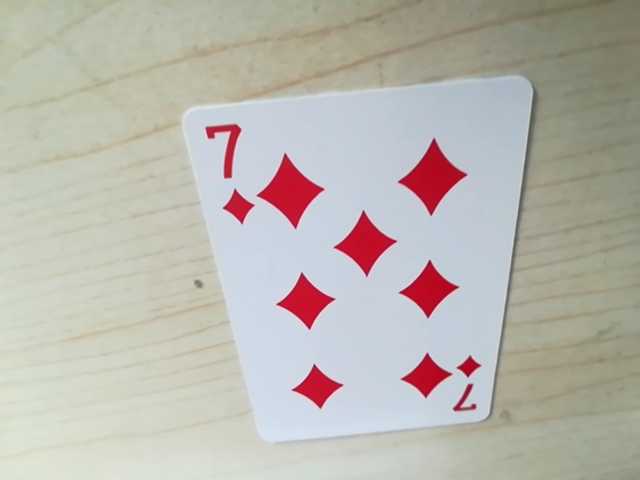fk 7: (451, 361, 485, 420), (197, 110, 248, 148)
